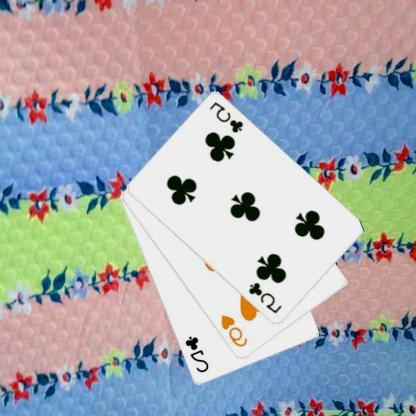2C: (184, 334, 212, 374)
5C: (247, 279, 285, 316), (209, 100, 246, 134)
6H: (220, 312, 251, 349)
